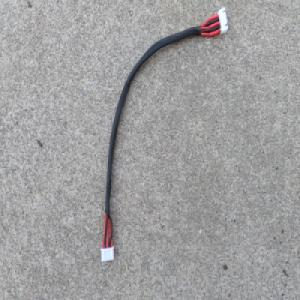Wire: (99, 6, 230, 265)
